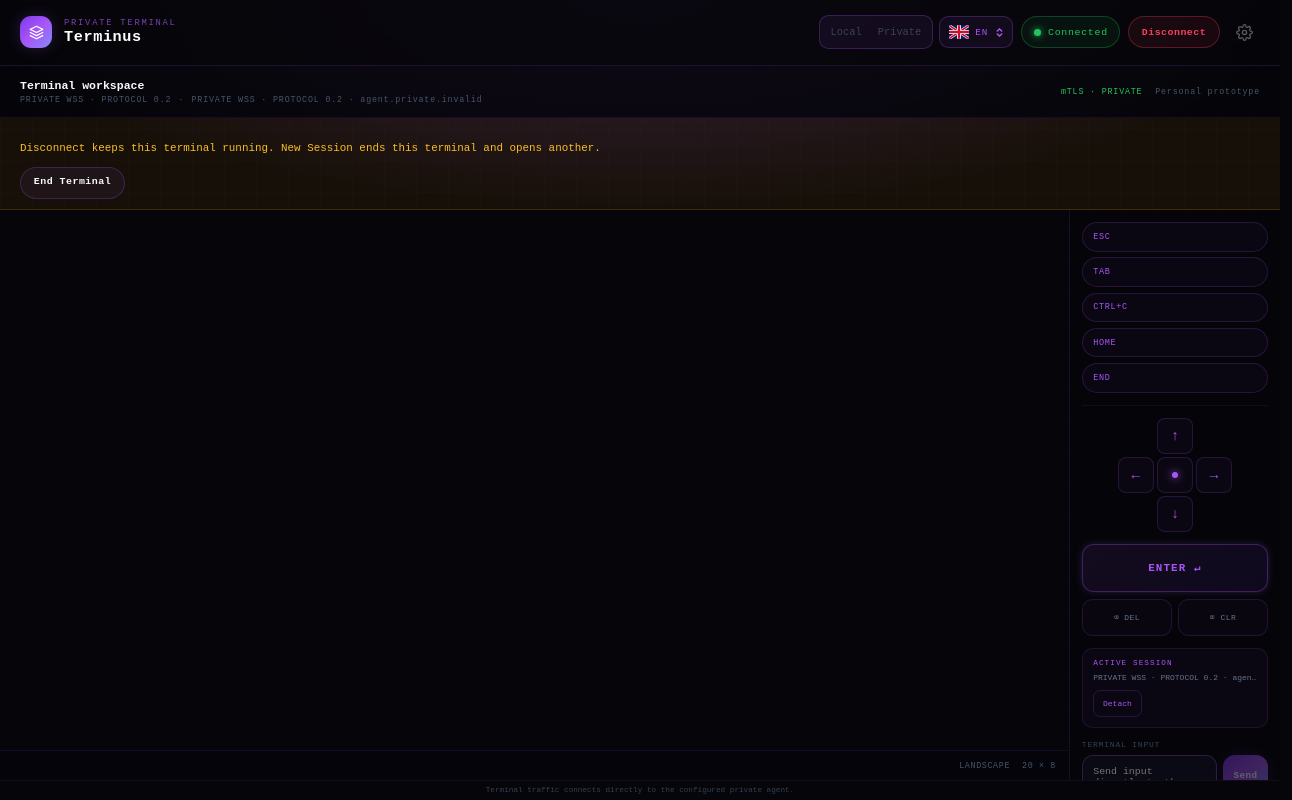
it: TerminalShell › keeps failed input for review and reports partial-send risk without echoing it
The image size is (1292, 800).
Type "synthetic draft" into the text box labelled "Terminal input" at (1149, 775), box [1082,755,1217,795]
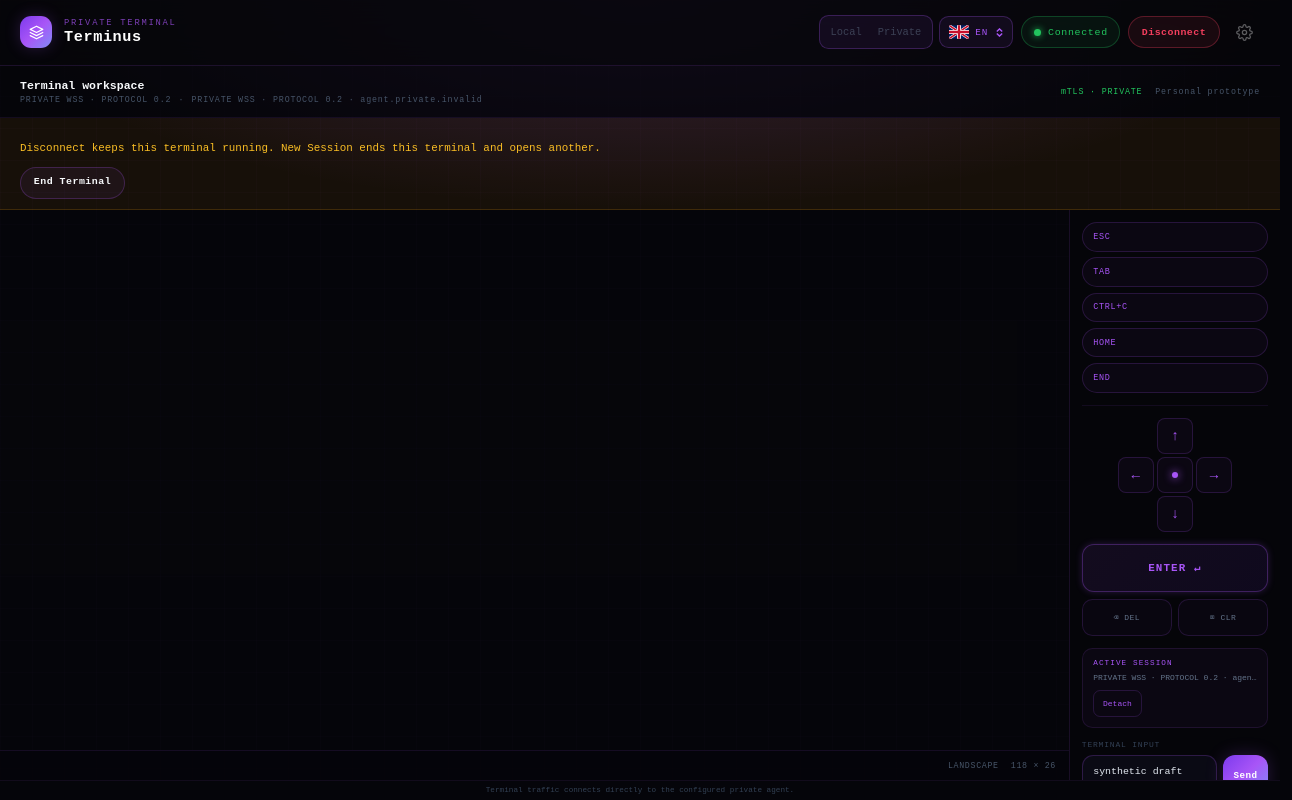
Click the button "Send" at (1246, 775), box [1223,755,1268,795]
(page scrolled)
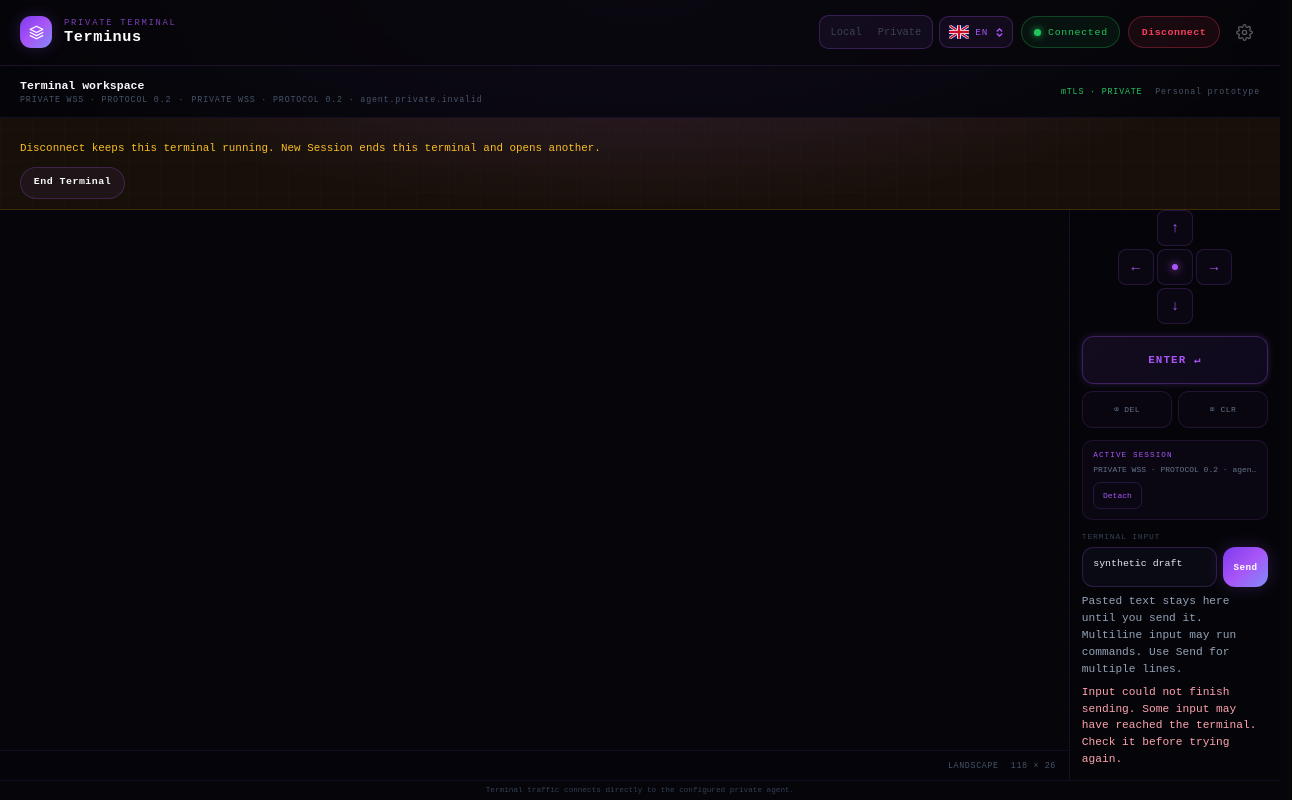
Expected: the 2nd message shows "Some input may have reached the terminal", [1082,686,1256,765]
